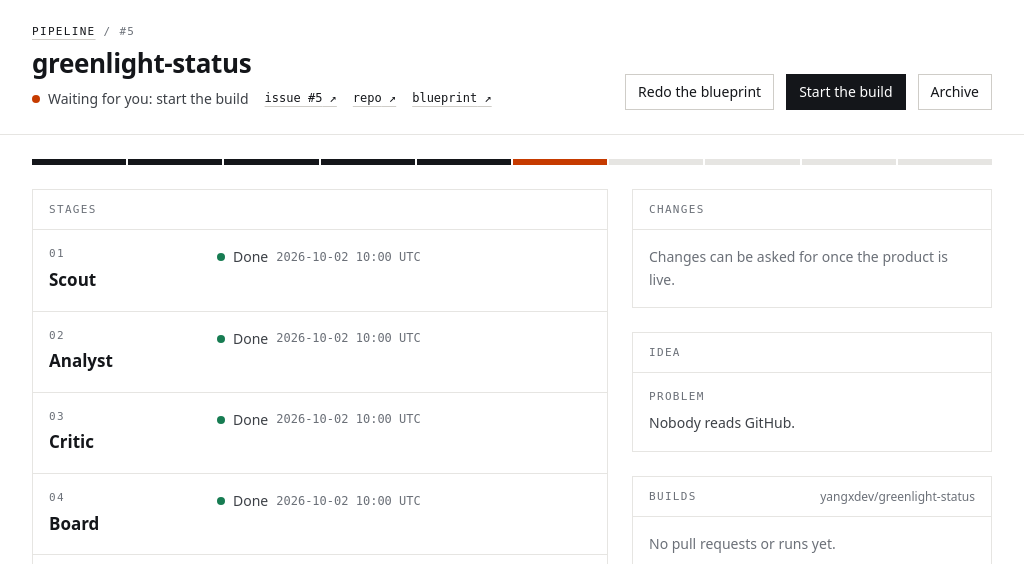
Test: Project › asks before archiving, and shows GitHub refusing
Click the button "Archive": [955, 92] box [918,74,992,110]
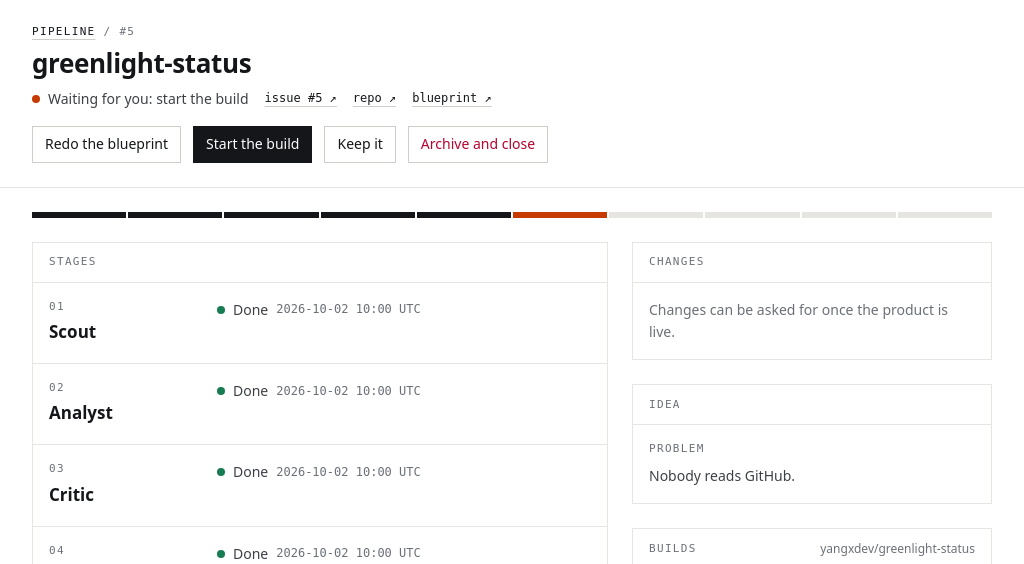
Click the button "Archive and close": [478, 144] box [408,126,548,163]
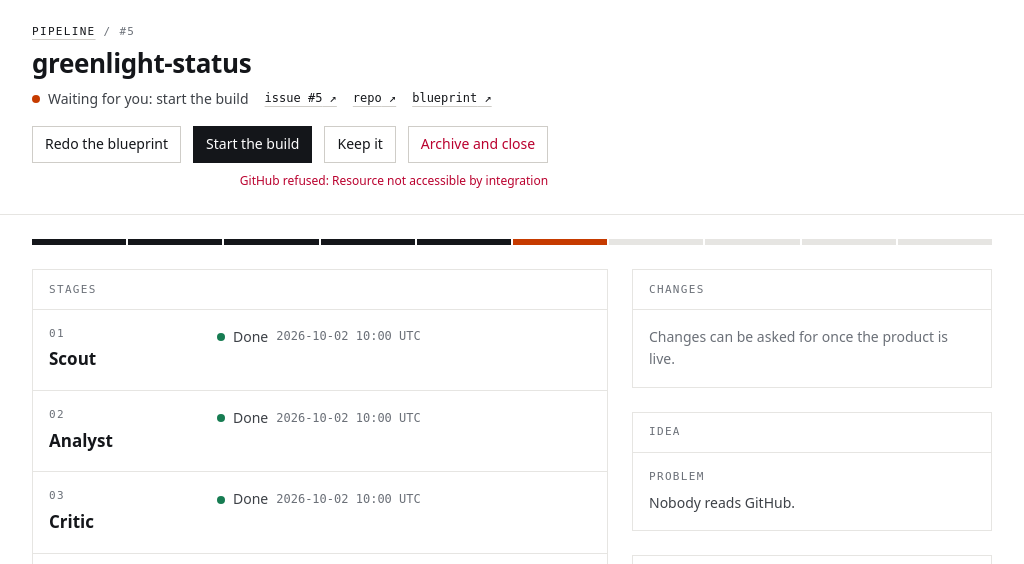
Check: the message shows "Resource not accessible", box [240,172,548,189]
